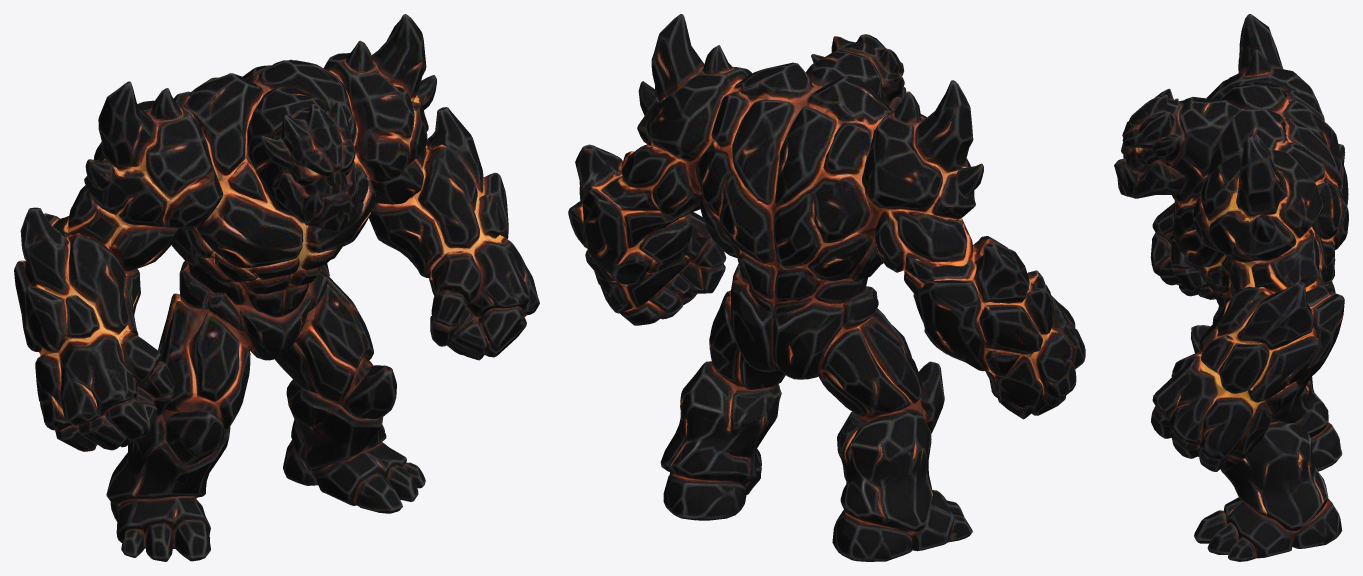
File: obsidian_mauler.glb
The picture shows the model from 3 angles, left to right: view 1: azimuth 30°, elevation 25°; view 2: azimuth 150°, elevation 25°; view 3: azimuth 270°, elevation 25°; orthographic projection. The views are drawn at different scales.
Visible parts, largest first — view 1: Mesh_0; view 2: Mesh_0; view 3: Mesh_0.
Boxes of the visible parts, x1,y1,x2,y2 form: Mesh_0: (14,14,539,561); Mesh_0: (568,14,1085,561); Mesh_0: (1114,14,1348,561).
Bounding box in the file's own units: 1.9 × 1.77 × 0.8903.
1 material, 1 textured.
